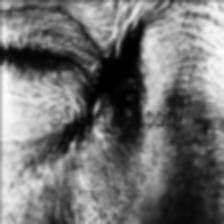Potentially Malignant Skin Tumors: (74, 19, 156, 120)
